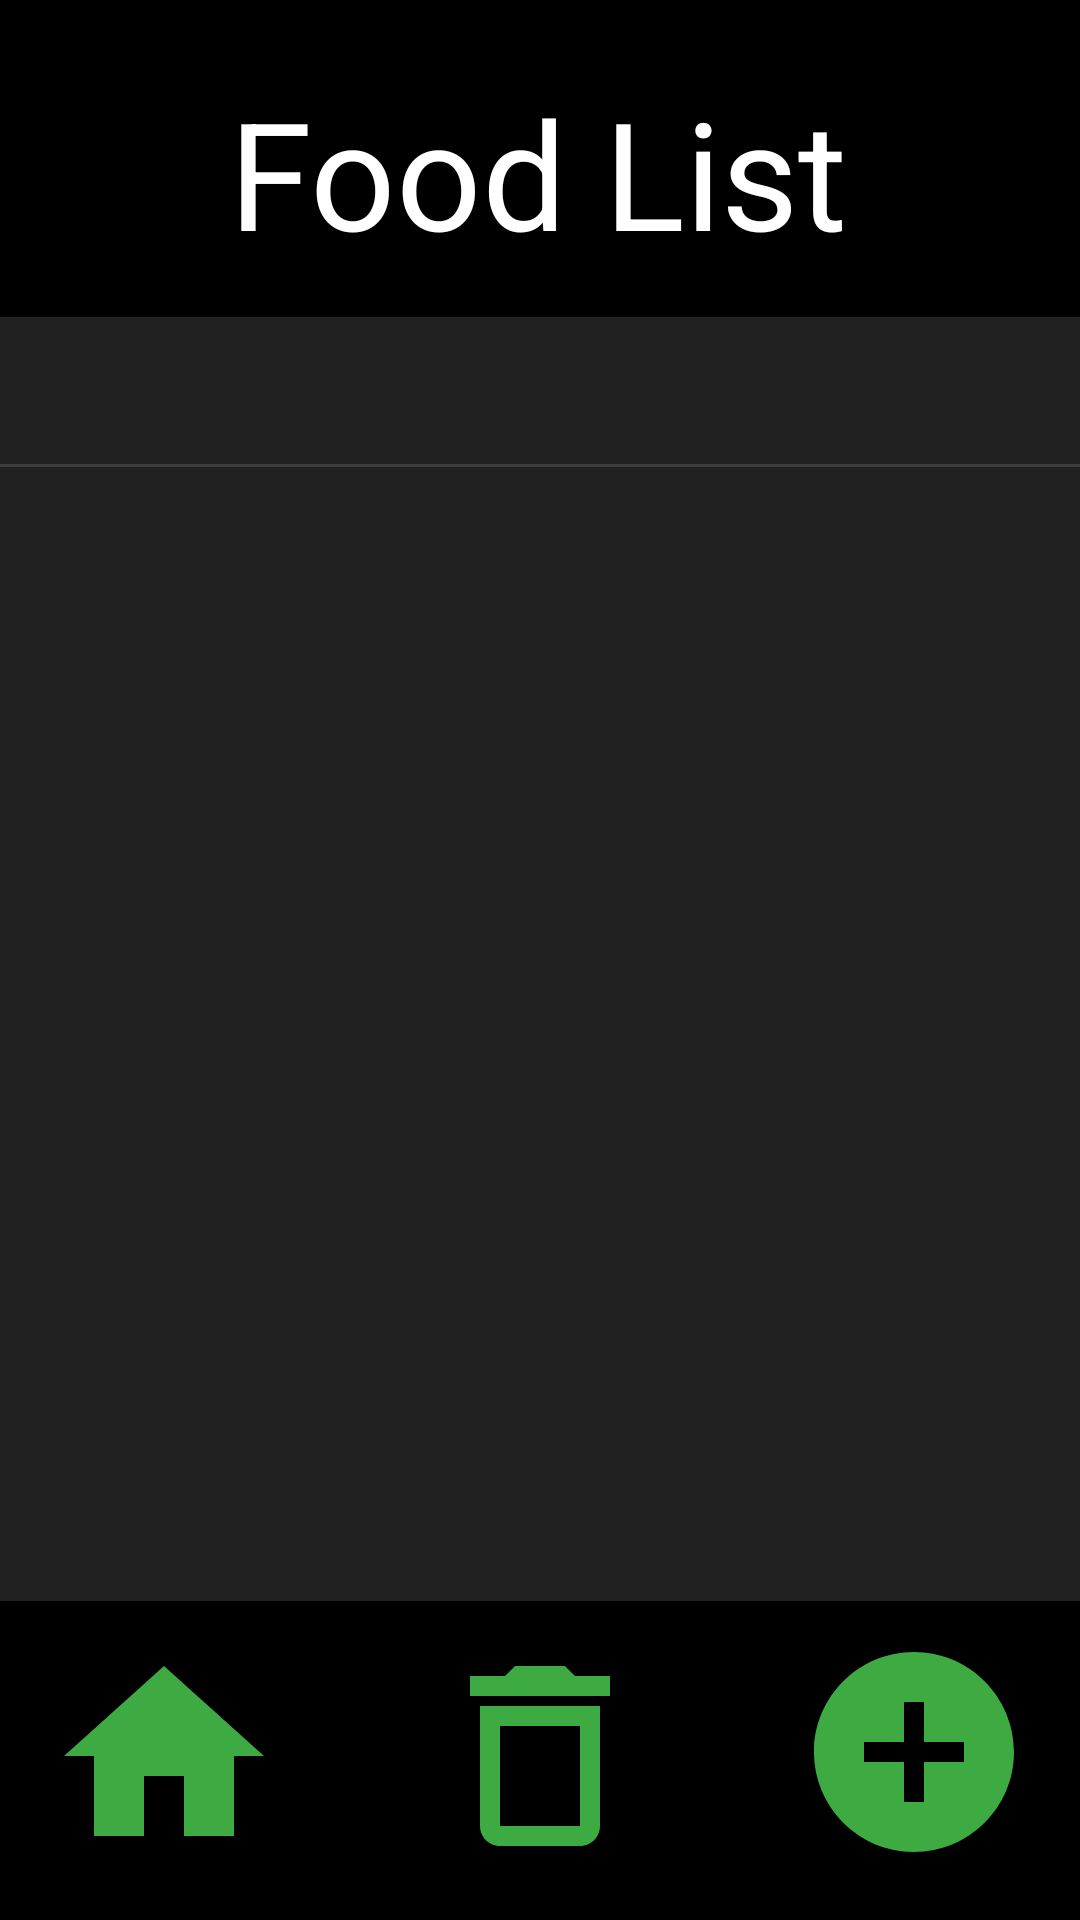

Named icons in this screenshot (1080x1920) and their bounding boxes, (x1, y1, x2, y2):
add: (814, 1652, 1014, 1852)
delete: (470, 1666, 610, 1846)
home: (64, 1666, 264, 1836)
